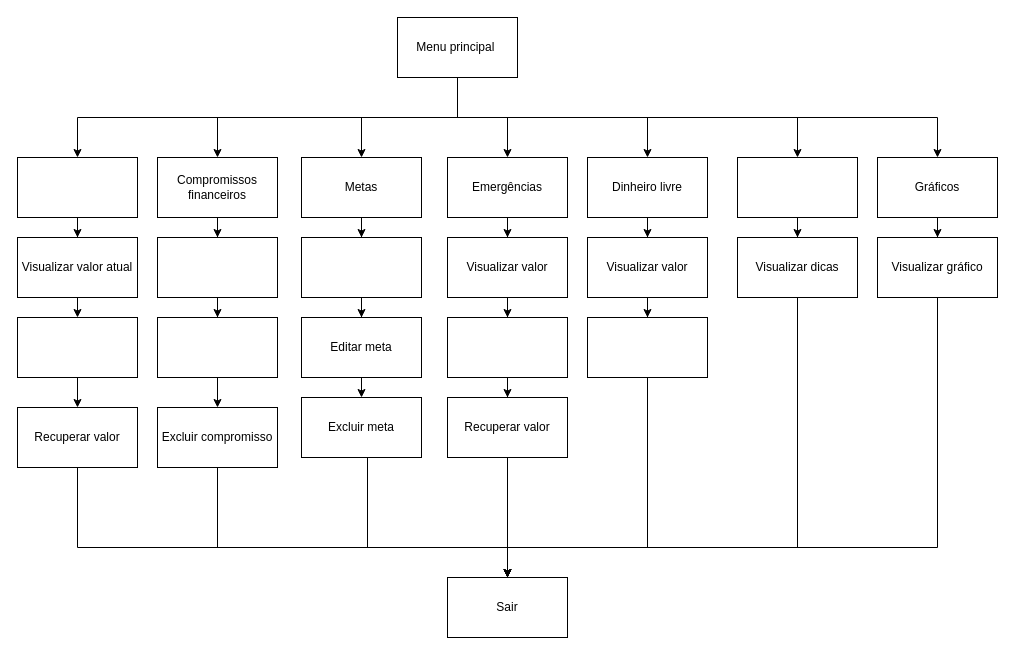
This 1015x655 diagram has some shape labels left out. The shapes that lost their labels are listed below. From the top down, each one's centre as x and y in pixels, then its label:
pixel 77 187: Carteira
pixel 797 187: Dicas
pixel 217 267: Adicionar compromisso
pixel 361 267: Adicionar meta
pixel 77 347: Adicionar valor
pixel 217 347: Editar compromisso
pixel 507 347: Armazenar valor
pixel 647 347: Resgatar valor
